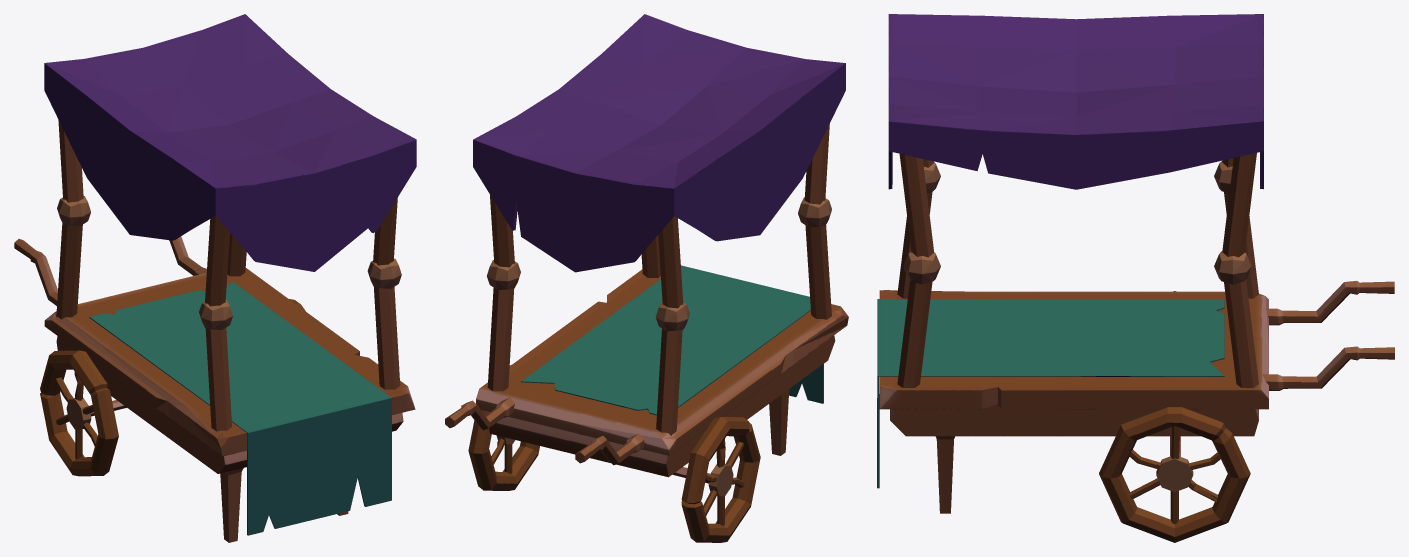
File: Caseta05.fbx
3 renders of one model, left to right at view 1: azimuth 30°, elevation 25°; view 2: azimuth 150°, elevation 25°; view 3: azimuth 270°, elevation 25°, orthographic. The views are drawn at different scales.
Parts seen in each view (by area): view 1: cart04; view 2: cart04; view 3: cart04.
Boxes of the visible parts, x1,y1,x2,y2 form: cart04: (14,14,416,542); cart04: (445,14,848,542); cart04: (877,14,1394,542).
Bounding box in the file's own units: 2.59 × 4.09 × 4.59.
1 material, 1 textured.
